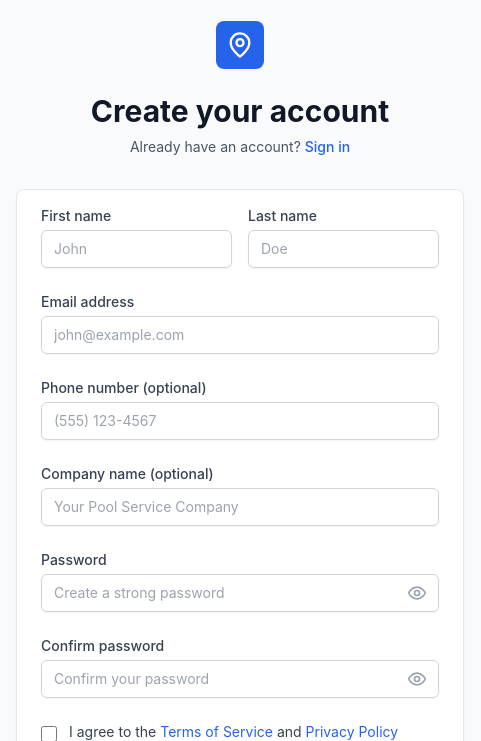
Test: RegisterPage › Form Validation › should validate password requirements
Type "short" into the password field labelled "Password" at point(240, 593), box [41,574,439,612]
(page scrolled)
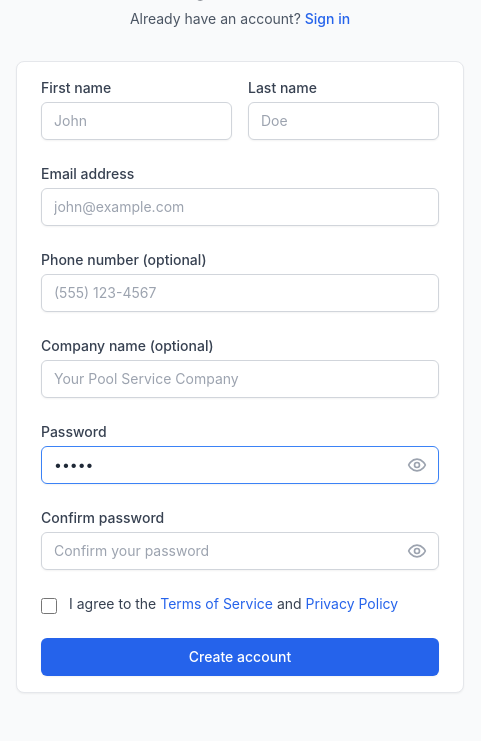
Click the button "Create account" at point(240, 657), box [41,638,439,676]
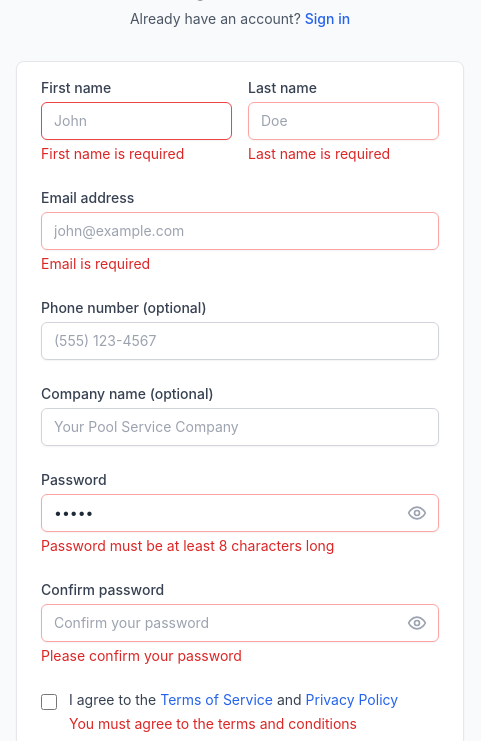
Result: the text "Password must be at least 8 characters long" is shown at [41,537,334,554]
